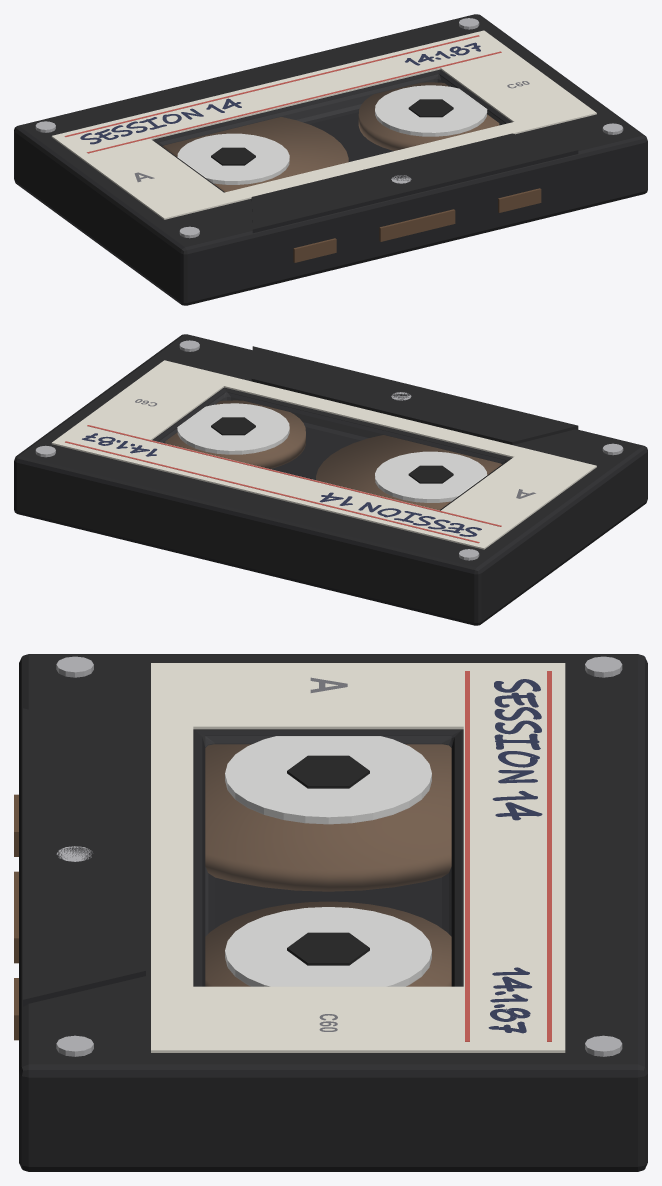
Rendered from audio_cassette.glb.
The picture shows the model from 3 angles, top to bottom: view 1: azimuth 30°, elevation 25°; view 2: azimuth 150°, elevation 25°; view 3: azimuth 270°, elevation 25°; orthographic projection. The views are drawn at different scales.
Parts seen in each view (by area): view 1: CassetteShell, CassetteLabel, CassetteTrapezoid, CassetteWindow, CassetteTapePacks, CassetteReelRight, CassetteReelLeft, CassetteTapeEdge, CassetteLabelRules, CassetteHandwritingTitle, CassetteScrews; view 2: CassetteShell, CassetteLabel, CassetteTrapezoid, CassetteWindow, CassetteTapePacks, CassetteReelRight, CassetteReelLeft, CassetteLabelRules, CassetteHandwritingTitle, CassetteScrews, CassetteHandwritingDate; view 3: CassetteShell, CassetteLabel, CassetteTrapezoid, CassetteWindow, CassetteTapePacks, CassetteReelLeft, CassetteReelRight, CassetteLabelRules, CassetteScrews, CassetteHandwritingTitle, CassetteHandwritingDate, CassetteTapeEdge.
Boxes of the visible parts, left/top/right/bottom form: CassetteShell: left=14, top=14, right=647, bottom=305; CassetteLabel: left=51, top=30, right=596, bottom=219; CassetteTrapezoid: left=251, top=133, right=578, bottom=233; CassetteWindow: left=160, top=75, right=504, bottom=191; CassetteTapePacks: left=162, top=82, right=499, bottom=192; CassetteReelRight: left=375, top=85, right=487, bottom=136; CassetteReelLeft: left=177, top=133, right=289, bottom=184; CassetteTapeEdge: left=293, top=188, right=541, bottom=262; CassetteLabelRules: left=64, top=35, right=501, bottom=153; CassetteHandwritingTitle: left=80, top=98, right=241, bottom=144; CassetteScrews: left=35, top=18, right=623, bottom=238; CassetteShell: left=14, top=334, right=647, bottom=625; CassetteLabel: left=51, top=360, right=596, bottom=549; CassetteTrapezoid: left=251, top=346, right=578, bottom=444; CassetteWindow: left=160, top=393, right=504, bottom=509; CassetteTapePacks: left=165, top=400, right=501, bottom=510; CassetteReelRight: left=177, top=403, right=289, bottom=454; CassetteReelLeft: left=375, top=451, right=487, bottom=502; CassetteLabelRules: left=65, top=425, right=501, bottom=543; CassetteHandwritingTitle: left=319, top=492, right=481, bottom=536; CassetteScrews: left=35, top=340, right=623, bottom=560; CassetteHandwritingDate: left=82, top=433, right=157, bottom=456; CassetteShell: left=19, top=654, right=647, bottom=1171; CassetteLabel: left=151, top=663, right=565, bottom=1052; CassetteTrapezoid: left=23, top=708, right=145, bottom=1006; CassetteWindow: left=206, top=736, right=450, bottom=985; CassetteTapePacks: left=205, top=744, right=451, bottom=986; CassetteReelLeft: left=225, top=736, right=431, bottom=824; CassetteReelRight: left=225, top=907, right=431, bottom=986; CassetteLabelRules: left=465, top=671, right=551, bottom=1041; CassetteScrews: left=56, top=656, right=622, bottom=1056; CassetteHandwritingTitle: left=492, top=679, right=542, bottom=820; CassetteHandwritingDate: left=488, top=967, right=531, bottom=1033; CassetteTapeEdge: left=14, top=794, right=18, bottom=1040.
Bounding box in the file's own units: 0.1004 × 0.0126 × 0.0643.
